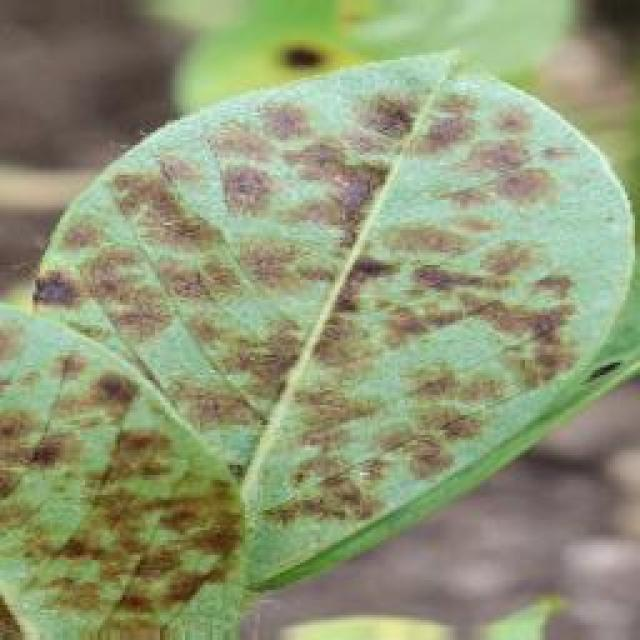Whitefly: (0, 45, 550, 625)
